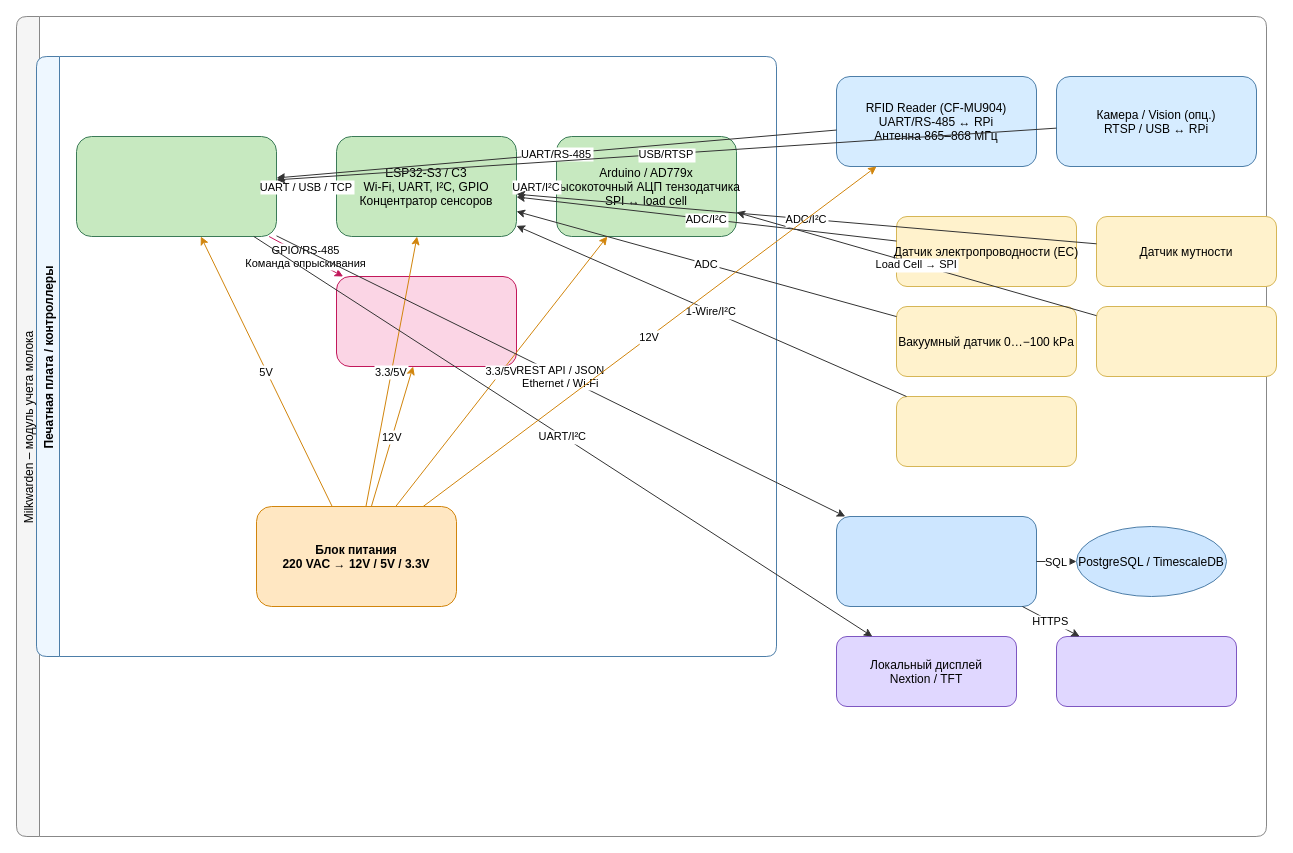
This 1293x853 diagram has some shape labels left out. The centre of each missing label's shape, as x and y in pixels:
"Load Cell (вес молока)" goes at (x=1186, y=341).
"Milkwarden Server HTTP(S) API, обработка данных" goes at (x=936, y=561).
"Raspberry Pi Zero 2 W Центральный узел (Linux) Сбор данных, буфер, MQTT" goes at (x=176, y=186).
"Web UI / Dashboard" goes at (x=1146, y=671).
"Модуль опрыскивания форсунки + насос GPIO/RS-485" goes at (x=426, y=321).
"Температурный датчик" goes at (x=986, y=431).
